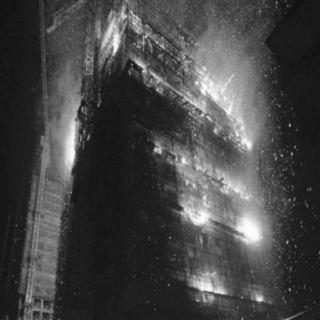Fire: (183, 201, 211, 228)
